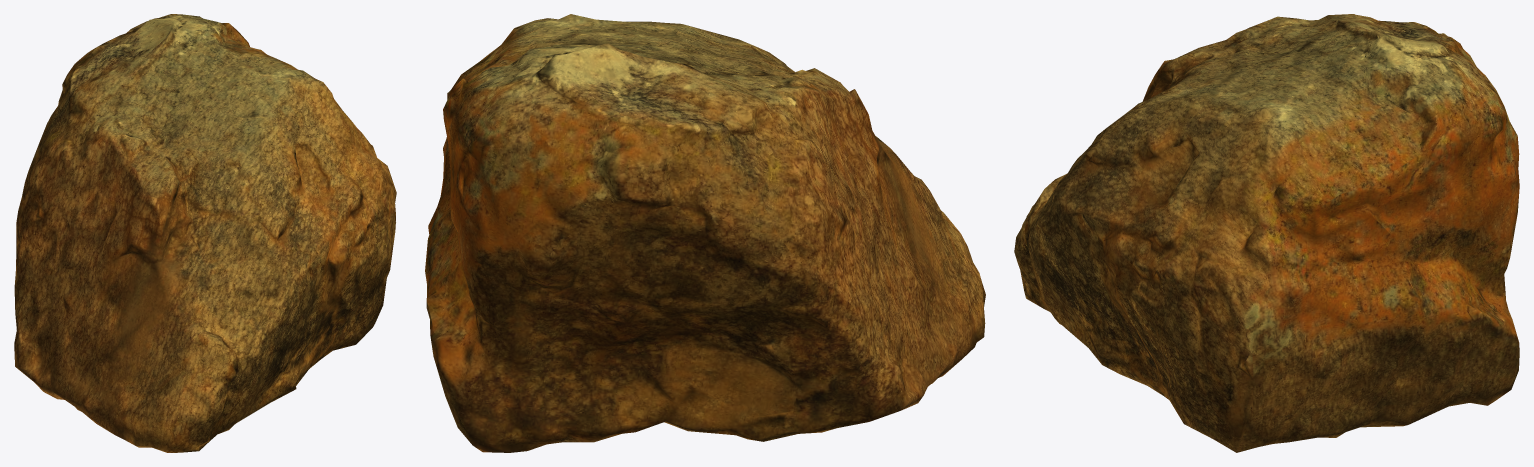
File: node_sulfur_2.glb
The picture shows the model from 3 angles, left to right: view 1: azimuth 30°, elevation 25°; view 2: azimuth 150°, elevation 25°; view 3: azimuth 270°, elevation 25°; orthographic projection. The views are drawn at different scales.
Visible parts, largest first — view 1: boulder_04; view 2: boulder_04; view 3: boulder_04.
Part boxes in pixels (box(x1,y1,x2,y2)): boulder_04: box(14, 14, 396, 452); boulder_04: box(425, 14, 985, 452); boulder_04: box(1014, 14, 1519, 452).
Bounding box in the file's own units: 1.73 × 1.32 × 1.74.
Materials: 1 (1 with a texture image).
